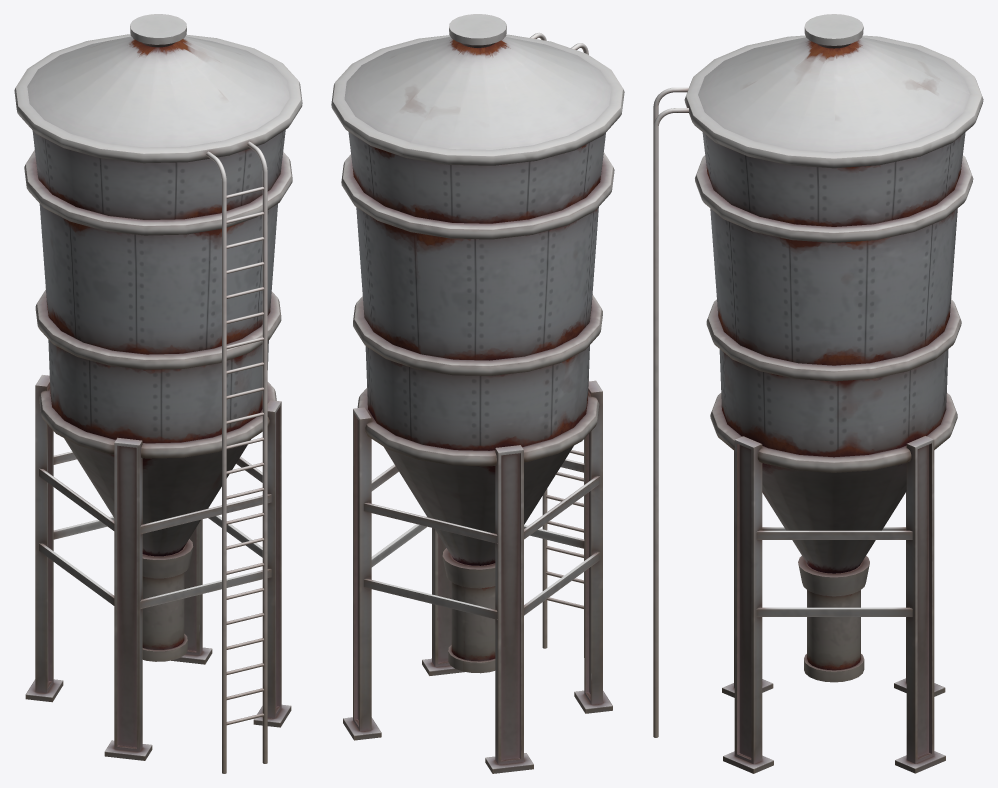
Rendered from StorageTank02.FBX.
3 views of the same model, side by side, from view 1: azimuth 30°, elevation 25°; view 2: azimuth 150°, elevation 25°; view 3: azimuth 270°, elevation 25° (orthographic). The views are drawn at different scales.
Parts seen in each view (by area): view 1: StorageTank02; view 2: StorageTank02; view 3: StorageTank02.
Part boxes in pixels (left/top/right/bottom): StorageTank02: left=14, top=14, right=302, bottom=773; StorageTank02: left=331, top=14, right=624, bottom=773; StorageTank02: left=653, top=14, right=983, bottom=773.
Size of what is drawn, in the model's own units: 3.88 by 10.02 by 4.28.
